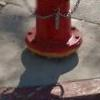Hydrant: (18, 1, 99, 70)
